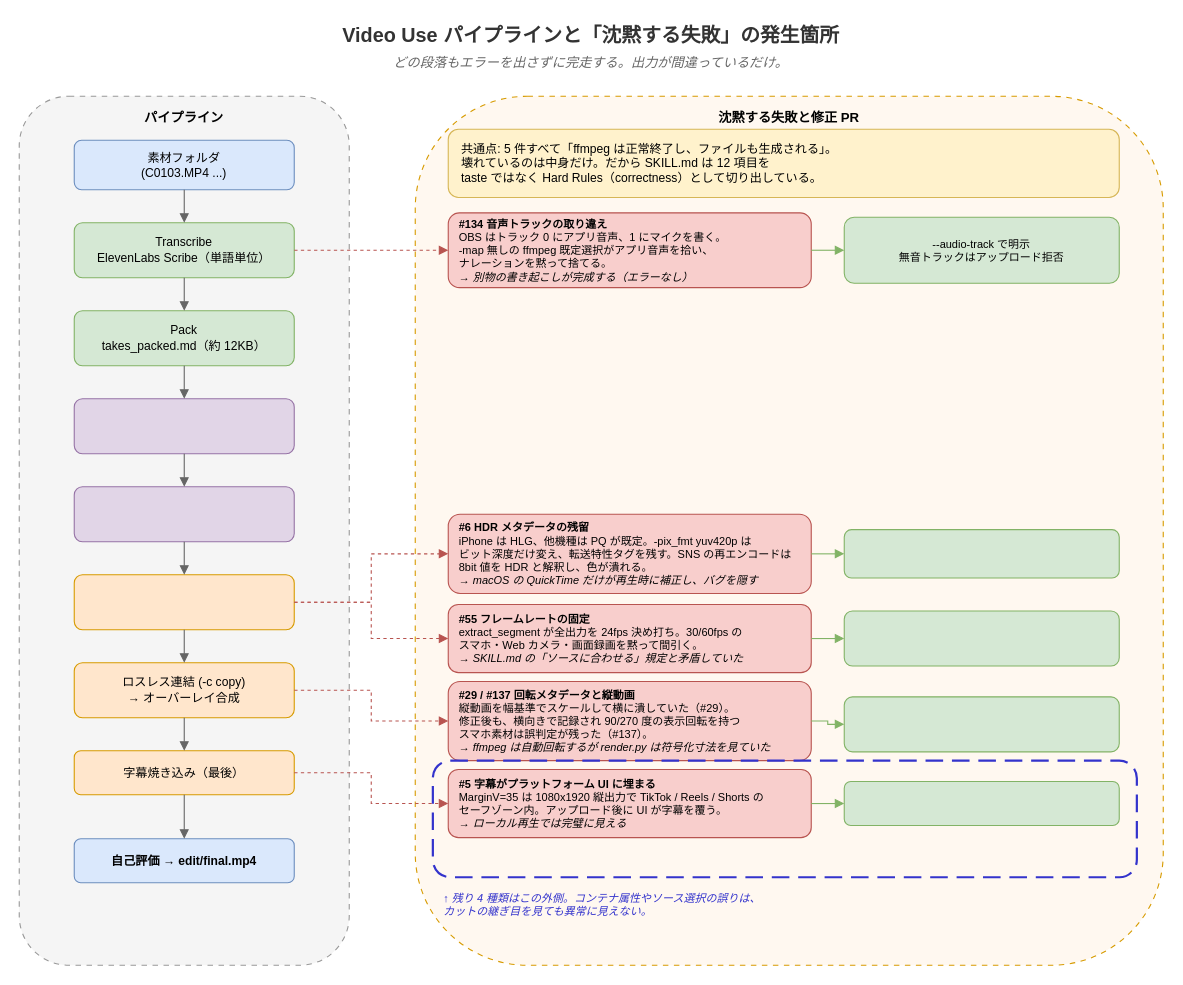
This 1183x985 diagram has some shape labels left out. The box of each missing label's shape, as (x1, y1, x2, y2) in pixels:
avg_frame_rate を計測して継承 --fps で 29.97 / 30000/1001 も指定可: (843, 610, 1119, 666)
display-matrix 回転を ffprobe で読み 実効寸法を入れ替えてから軸を選ぶ: (843, 696, 1119, 752)
EDL (JSON) ranges / grade / overlays: (73, 486, 294, 542)
HLG/PQ を Rec.709 SDR へトーンマップ: (843, 529, 1119, 578)
LLM 推論 カット点を単語境界で決定: (73, 398, 294, 454)
MarginV を 90 に引き上げ: (843, 780, 1119, 826)
セグメント単位で抽出 グレード + 30ms フェード: (73, 574, 294, 630)
自己評価ループが検査できる範囲 （出力側のカット境界のフィルムストリップ + 波形）: (431, 759, 1137, 878)
